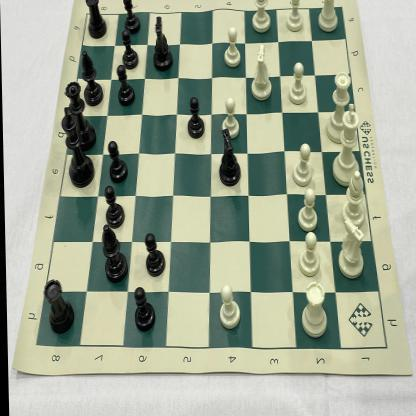black-bishop: (102, 224, 127, 284), (81, 48, 104, 108)
black-king: (62, 106, 94, 188)
black-knight: (217, 129, 242, 186), (152, 14, 172, 72)
black-pawn: (132, 284, 156, 334), (144, 232, 166, 278), (102, 186, 124, 230), (107, 140, 128, 184), (117, 62, 136, 106), (186, 94, 204, 140), (122, 0, 143, 34), (121, 32, 138, 68)
black-queen: (64, 82, 94, 150)
white-bishop: (338, 169, 366, 230), (250, 0, 273, 34)
white-king: (330, 102, 363, 188)
white-knight: (334, 218, 366, 278), (249, 43, 274, 101)
white-pawn: (296, 231, 322, 277), (216, 284, 240, 330), (291, 142, 312, 188), (297, 187, 318, 230), (288, 60, 308, 104), (220, 96, 240, 138), (222, 28, 242, 68), (285, 0, 305, 35)
white-queen: (324, 70, 356, 143)
white-rook: (42, 276, 76, 336), (299, 280, 329, 338), (84, 0, 108, 42), (318, 0, 342, 33)
